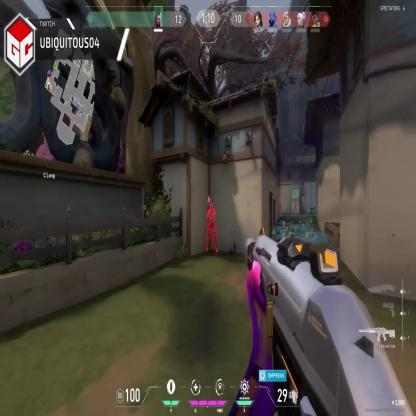enemy: (206, 202, 218, 253), (278, 198, 281, 215), (294, 200, 297, 213)
enemy_head: (210, 202, 213, 211), (294, 201, 296, 204), (280, 198, 281, 202)
